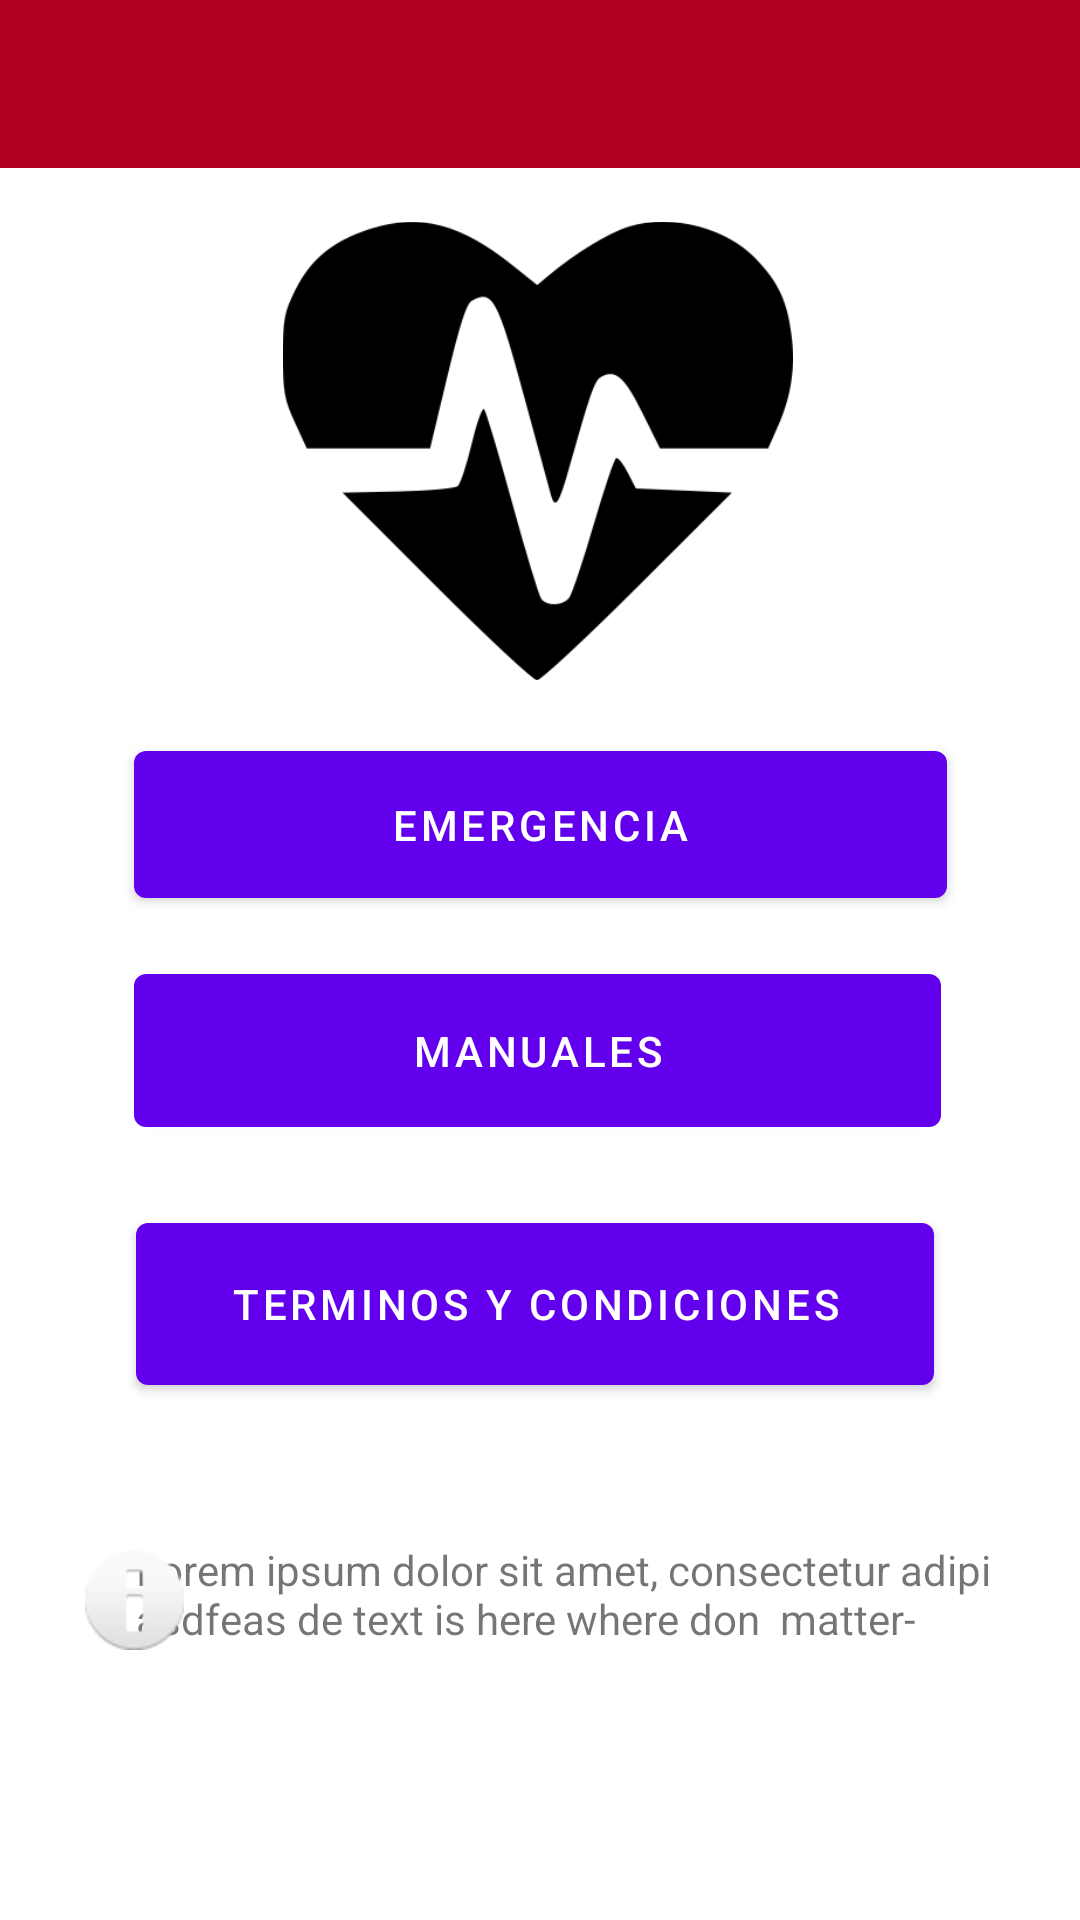

Icon bounding boxes for this 1080x1920 phone screenshot, format (x1, y1, x2, y2):
info: (85, 1563, 184, 1650)
